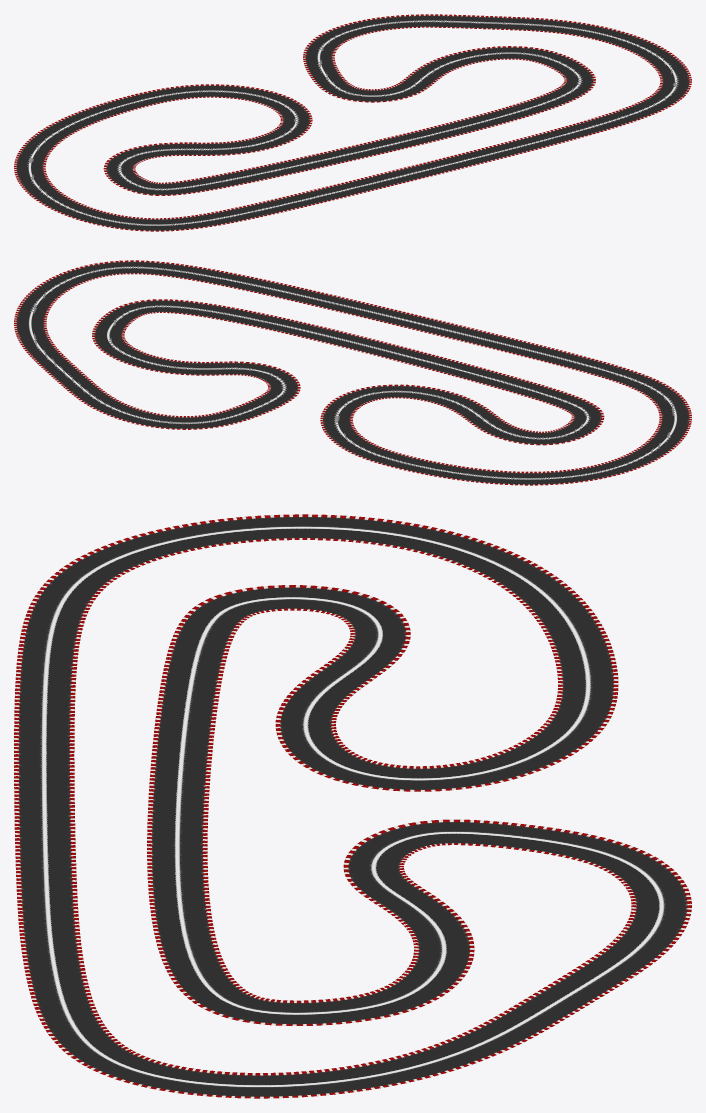
File: trackwork .fbx
3 renders of one model, top to bottom at view 1: azimuth 30°, elevation 25°; view 2: azimuth 150°, elevation 25°; view 3: azimuth 270°, elevation 25°, orthographic. The views are drawn at different scales.
Parts seen in each view (by area): view 1: road; view 2: road; view 3: road.
Boxes of the visible parts, <box> form: road: <box>14,14,691,231</box>; road: <box>14,260,691,485</box>; road: <box>14,514,691,1098</box>.
Size of the model in its own units: 16720 by 5.9 by 8202.
